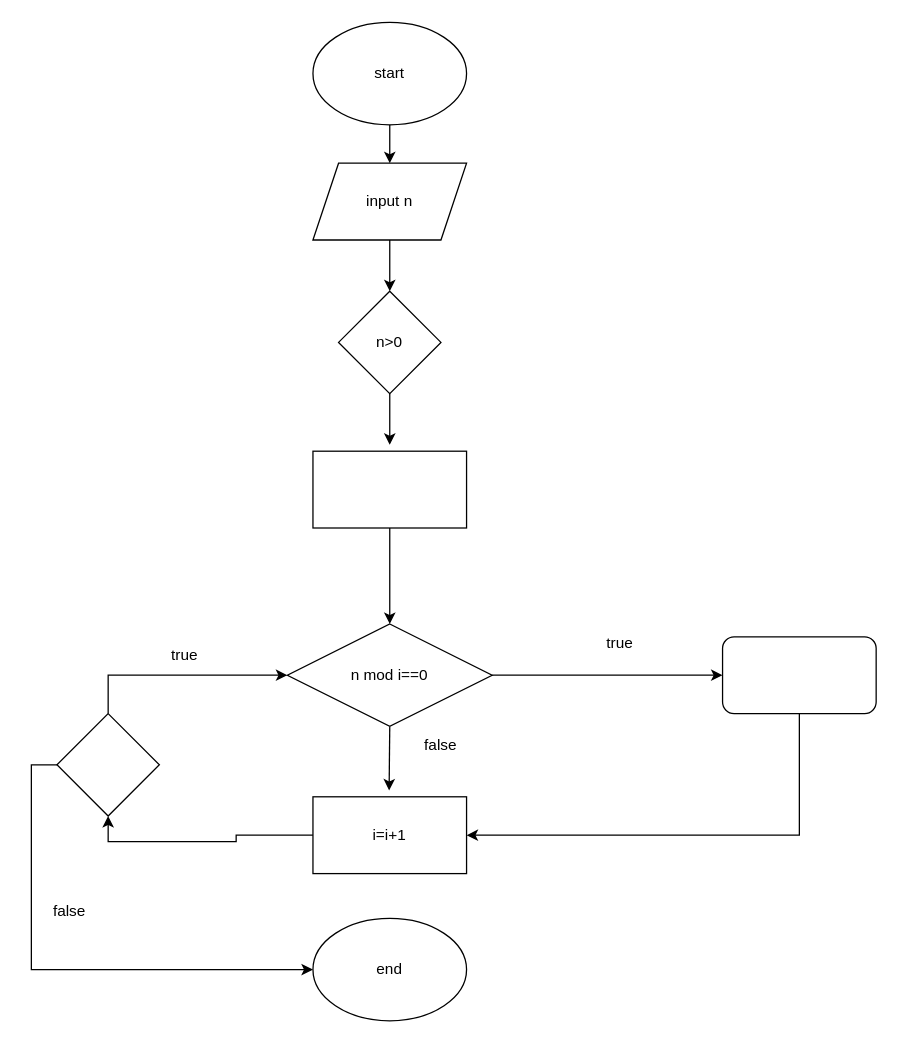
This 899x1043 diagram has some shape labels left out. The centre of each missing label's shape, as x and y in pixels:
"i<=n" belongs at point (107, 764).
"i=1" belongs at point (389, 489).
"output i" belongs at point (798, 675).
